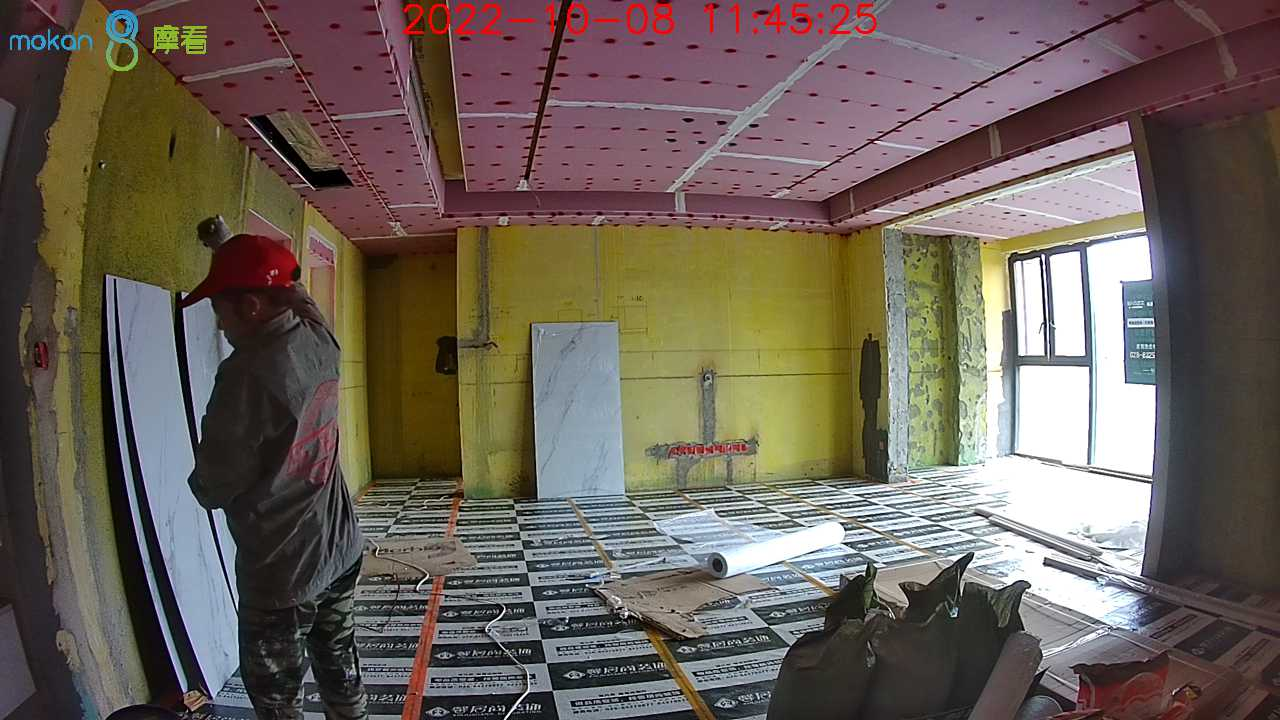people: (182, 235, 365, 720)
window: (1007, 230, 1156, 479)
